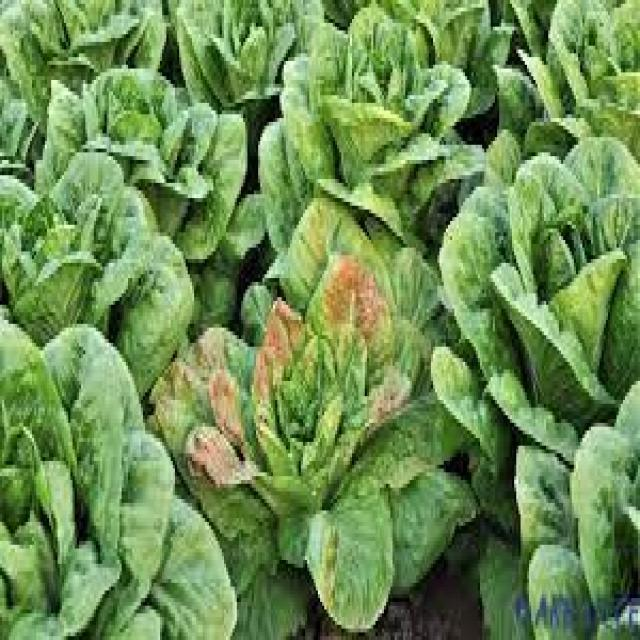Lettuce: (167, 260, 473, 633), (0, 323, 235, 640), (443, 134, 640, 451), (260, 8, 482, 260), (0, 148, 198, 389), (38, 66, 250, 256), (505, 388, 640, 640), (496, 0, 640, 145), (173, 0, 326, 113), (0, 0, 170, 93)
